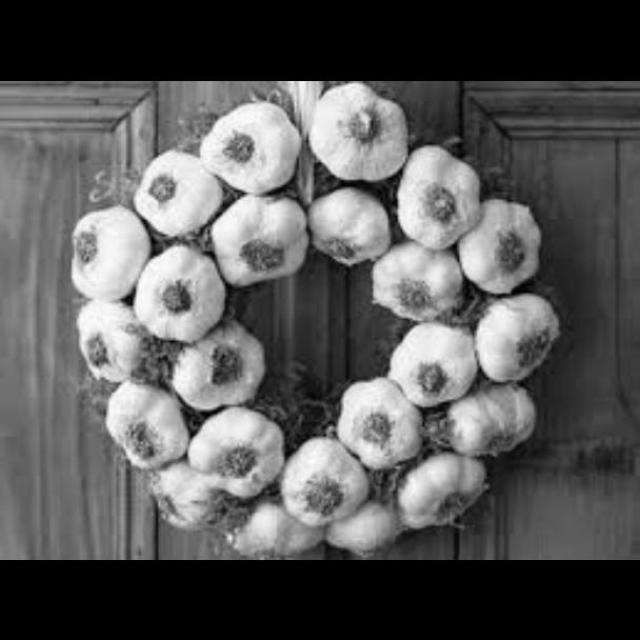garlic: (339, 85, 560, 559), (68, 104, 288, 525), (211, 80, 404, 280), (199, 399, 407, 558)
